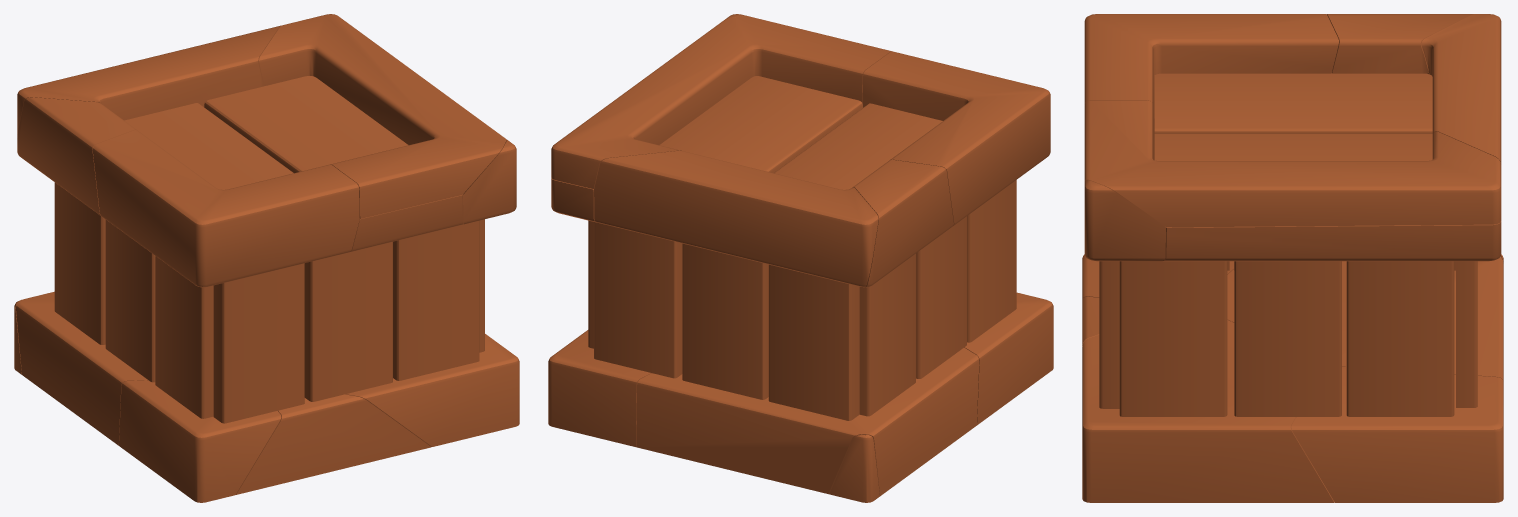
File: Crate.fbx
The picture shows the model from 3 angles, left to right: view 1: azimuth 30°, elevation 25°; view 2: azimuth 150°, elevation 25°; view 3: azimuth 270°, elevation 25°; orthographic projection. The views are drawn at different scales.
Visible parts, largest first — view 1: Crate01_A_cell.005, Crate01_A_cell.001, Crate01_A.002, Crate01_A.001_cell.002, Crate01_A.011, Crate01_A_cell.004, Crate01_A.001, Crate01_A.001_cell.003, Crate01_A.001_cell.001, Crate01_A.013, Crate01_A_cell.003, Crate01_A.014 (+3 smaller); view 2: Crate01_A.001_cell.001, Crate01_A_cell.004, Crate01_A_cell.005, Crate01_A_cell.001, Crate01_A.006, Crate01_A.004, Crate01_A.005, Crate01_A.001, Crate01_A_cell.003, Crate01_A.001_cell, Crate01_A.010, Crate01_A.014 (+4 smaller); view 3: Crate01_A_cell.005, Crate01_A.001_cell.003, Crate01_A.001_cell, Crate01_A.014, Crate01_A.007, Crate01_A.009, Crate01_A_cell.001, Crate01_A.008, Crate01_A_cell.004, Crate01_A.001, Crate01_A_cell.003, Crate01_A.001_cell.001 (+3 smaller).
Boxes of the visible parts, x1,y1,x2,y2 form: Crate01_A_cell.005: (259,14,516,251); Crate01_A_cell.001: (93,130,359,287); Crate01_A.002: (304,221,479,401); Crate01_A.001_cell.002: (119,380,431,502); Crate01_A.011: (213,263,304,423); Crate01_A_cell.004: (17,25,280,139); Crate01_A.001: (204,76,408,173); Crate01_A.001_cell.003: (346,334,519,446); Crate01_A.001_cell.001: (14,291,147,445); Crate01_A.013: (155,256,213,418); Crate01_A_cell.003: (17,97,136,215); Crate01_A.014: (124,103,293,189); Crate01_A.001_cell.001: (636,347,979,502); Crate01_A_cell.004: (594,150,878,287); Crate01_A_cell.005: (551,14,891,222); Crate01_A_cell.001: (862,51,1050,225); Crate01_A.006: (768,264,859,420); Crate01_A.004: (594,222,682,378); Crate01_A.005: (682,243,768,399); Crate01_A.001: (659,76,862,173); Crate01_A_cell.003: (853,159,953,287); Crate01_A.001_cell: (548,330,651,446); Crate01_A.010: (859,253,915,416); Crate01_A.014: (774,103,942,189); Crate01_A_cell.005: (1084,100,1501,261); Crate01_A.001_cell.003: (1082,320,1334,502); Crate01_A.001_cell: (1291,366,1503,502); Crate01_A.014: (1154,73,1432,133); Crate01_A.007: (1119,261,1227,416); Crate01_A.009: (1346,261,1454,416); Crate01_A_cell.001: (1084,14,1338,119); Crate01_A.008: (1234,261,1341,416); Crate01_A_cell.004: (1421,14,1501,164); Crate01_A.001: (1154,134,1432,160); Crate01_A_cell.003: (1327,14,1473,73); Crate01_A.001_cell.001: (1227,254,1503,381).
Bounding box in the file's own units: 144 × 119 × 144.
